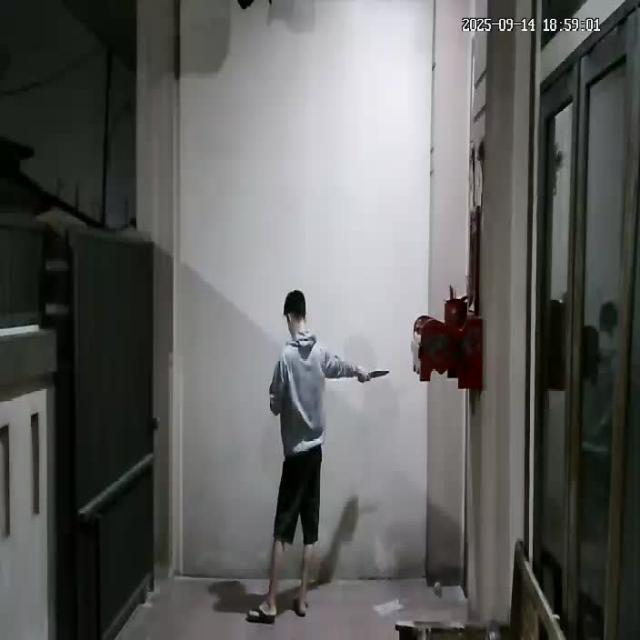senjata_tajam: (368, 366, 391, 382)
